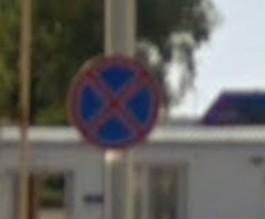No Parking: (71, 58, 162, 151)
